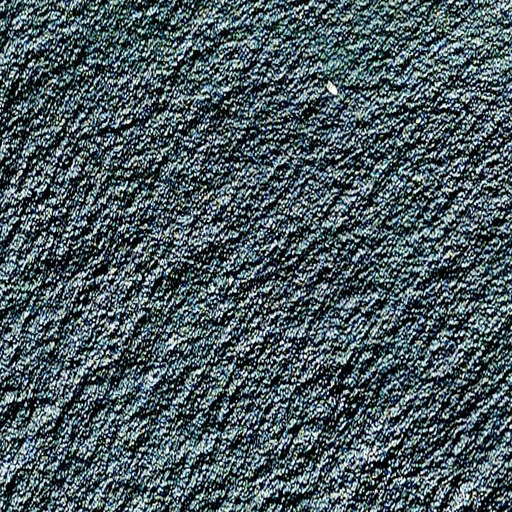ship: (323, 80, 340, 97)
